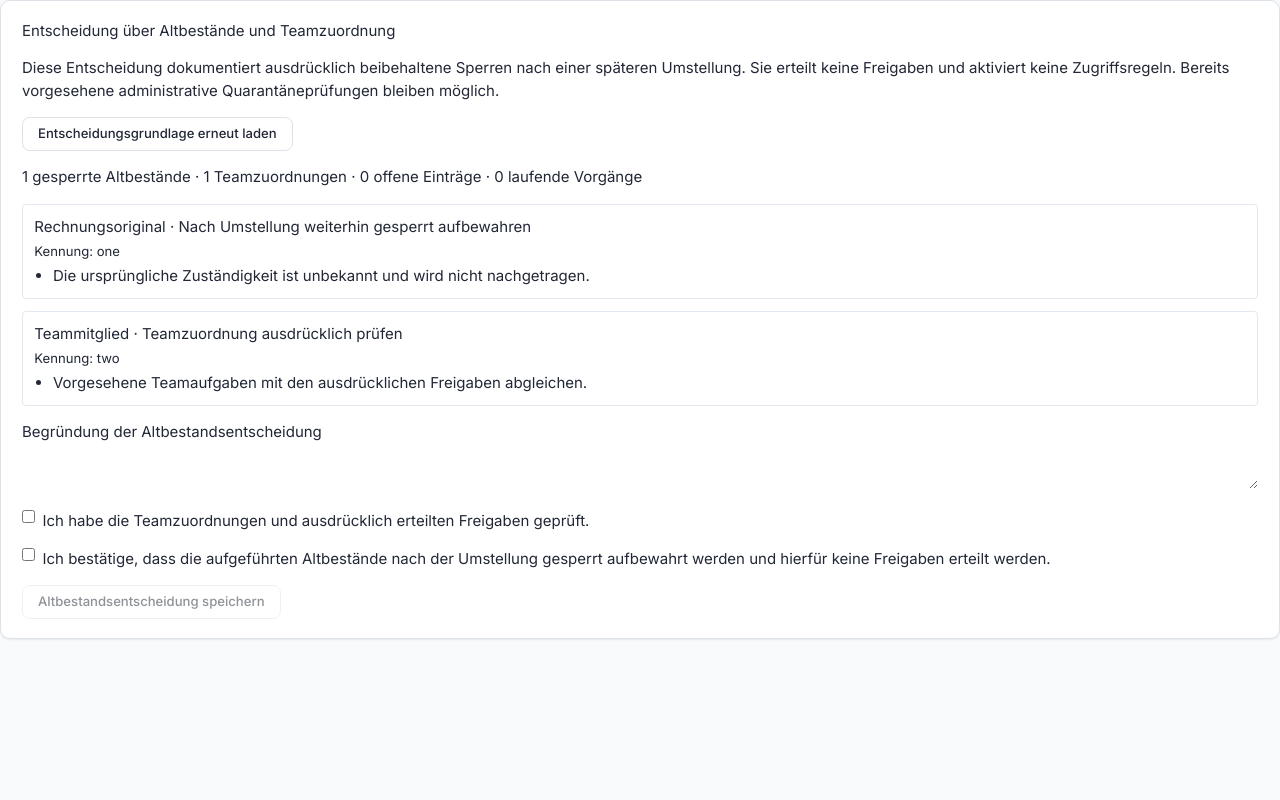
Test: retains the exact decision after response loss and returns its saved receipt
This screenshot has width=1280, height=800.
Expected: the heading "Rechnungsoriginal · Nach Umstellung" is shown, x1=34 y1=217 x2=531 y2=236
Type "Keep restricted legacy source" into the text box labelled "Begründung der Altbestandsentscheidung".
click(640, 466); type("Keep restricted legacy source")  # box x1=22 y1=444 x2=1258 y2=489
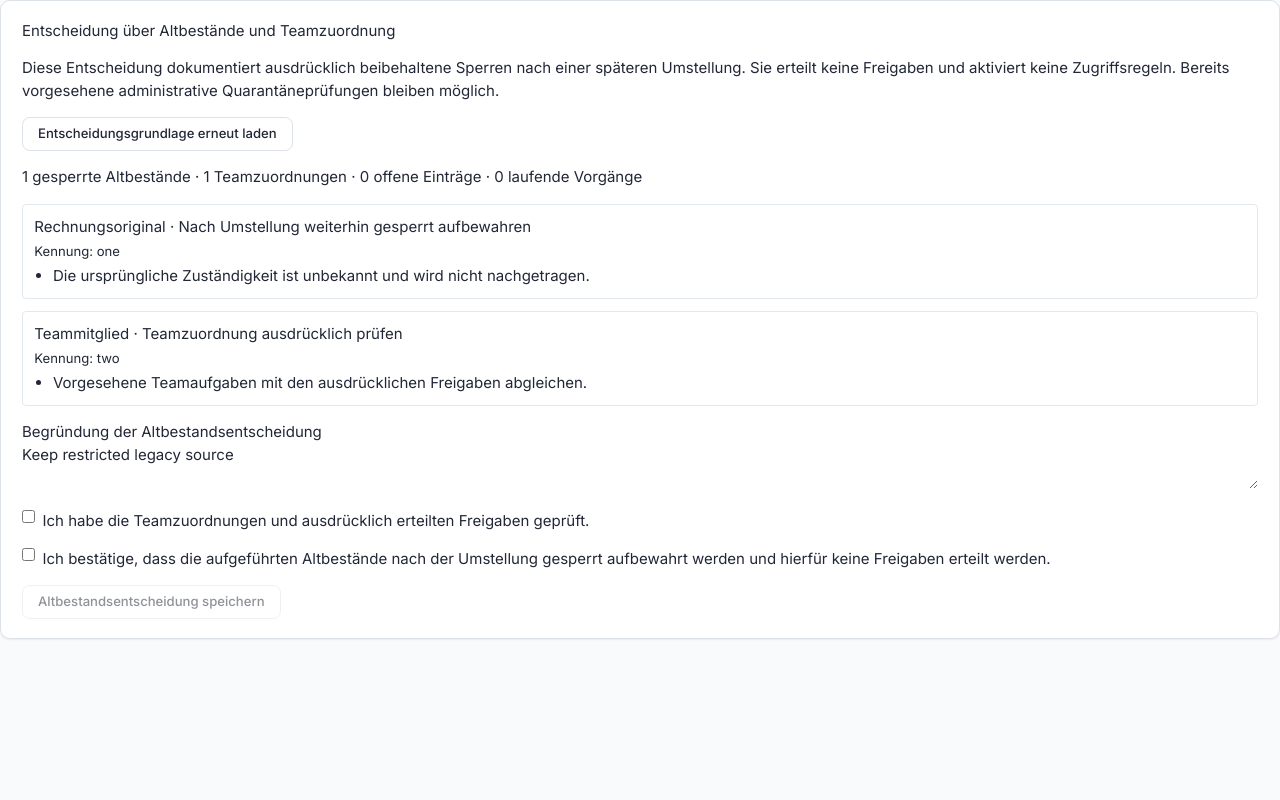
Click the 1st checkbox.
click(28, 517)  # box x1=22 y1=510 x2=35 y2=523
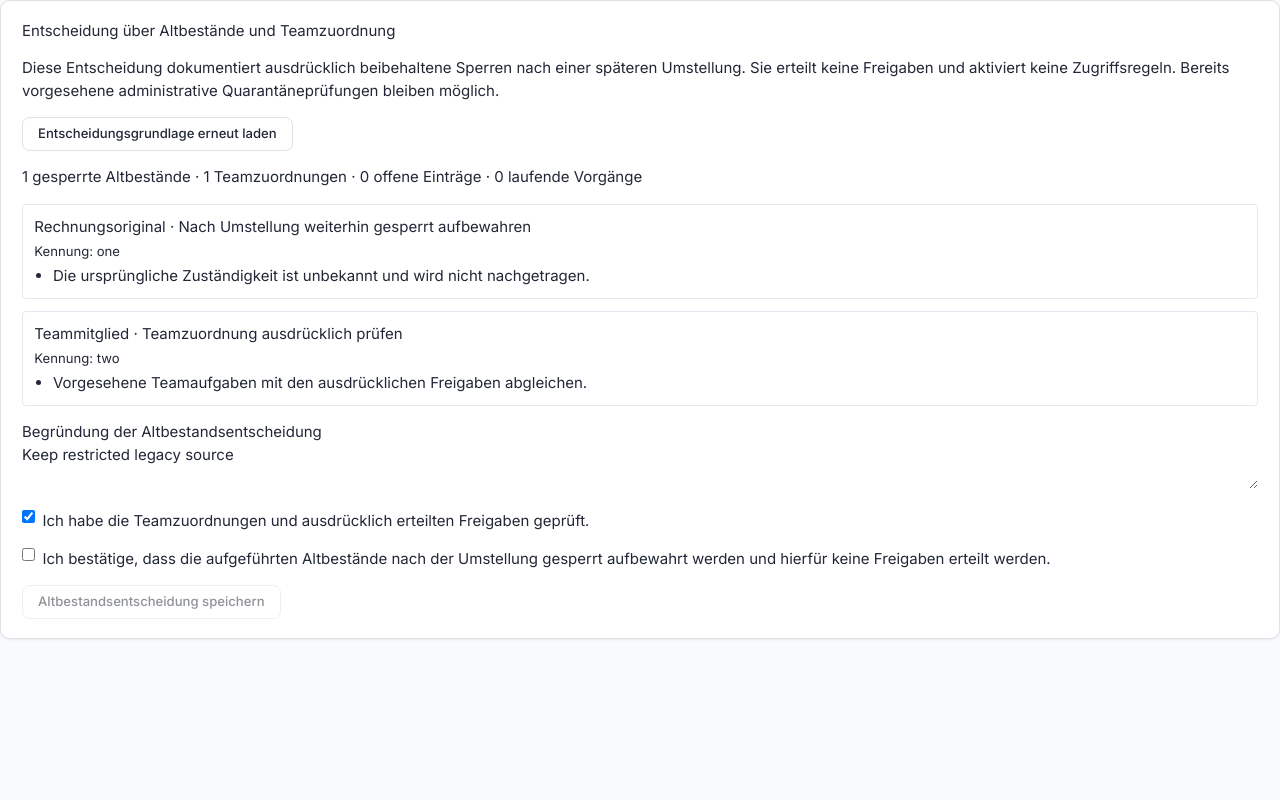
Click the 2nd checkbox.
click(28, 554)  # box x1=22 y1=548 x2=35 y2=561
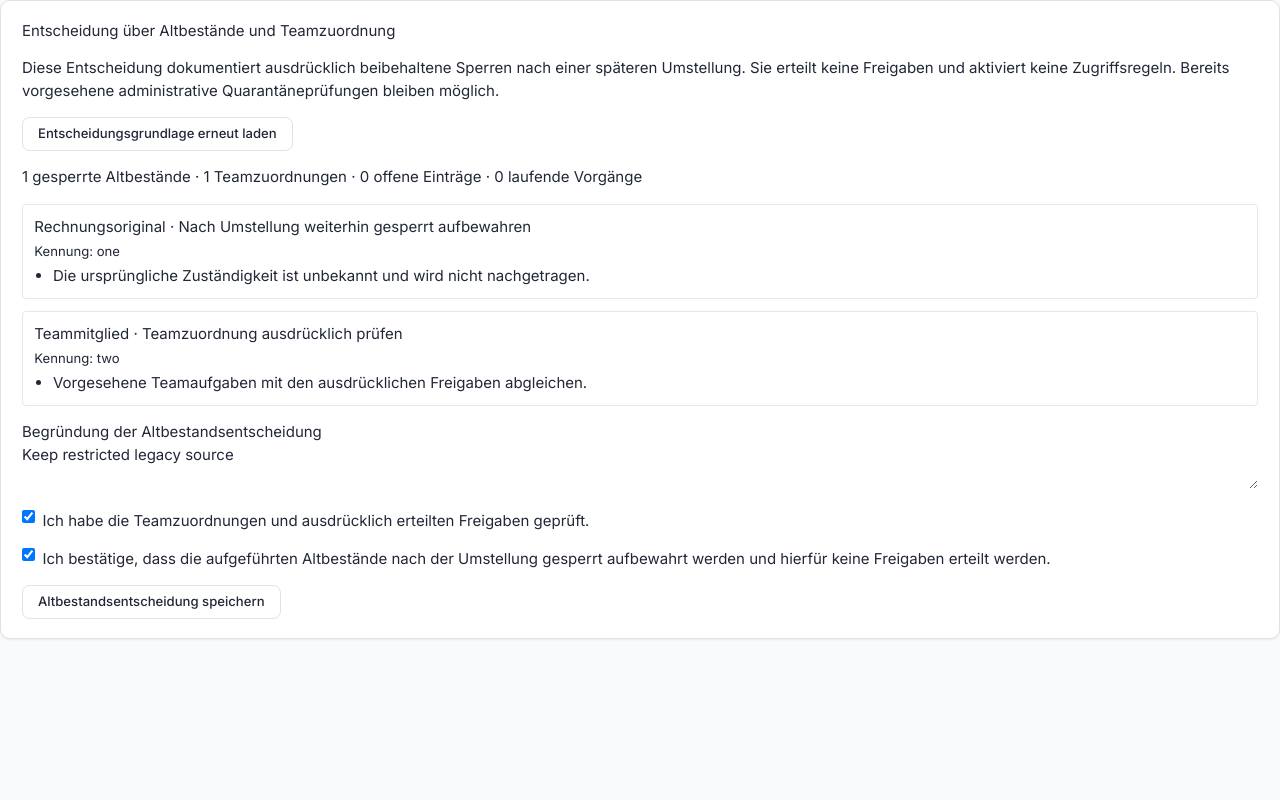
Click the button "Altbestandsentscheidung speichern".
click(151, 602)  # box x1=22 y1=585 x2=280 y2=619
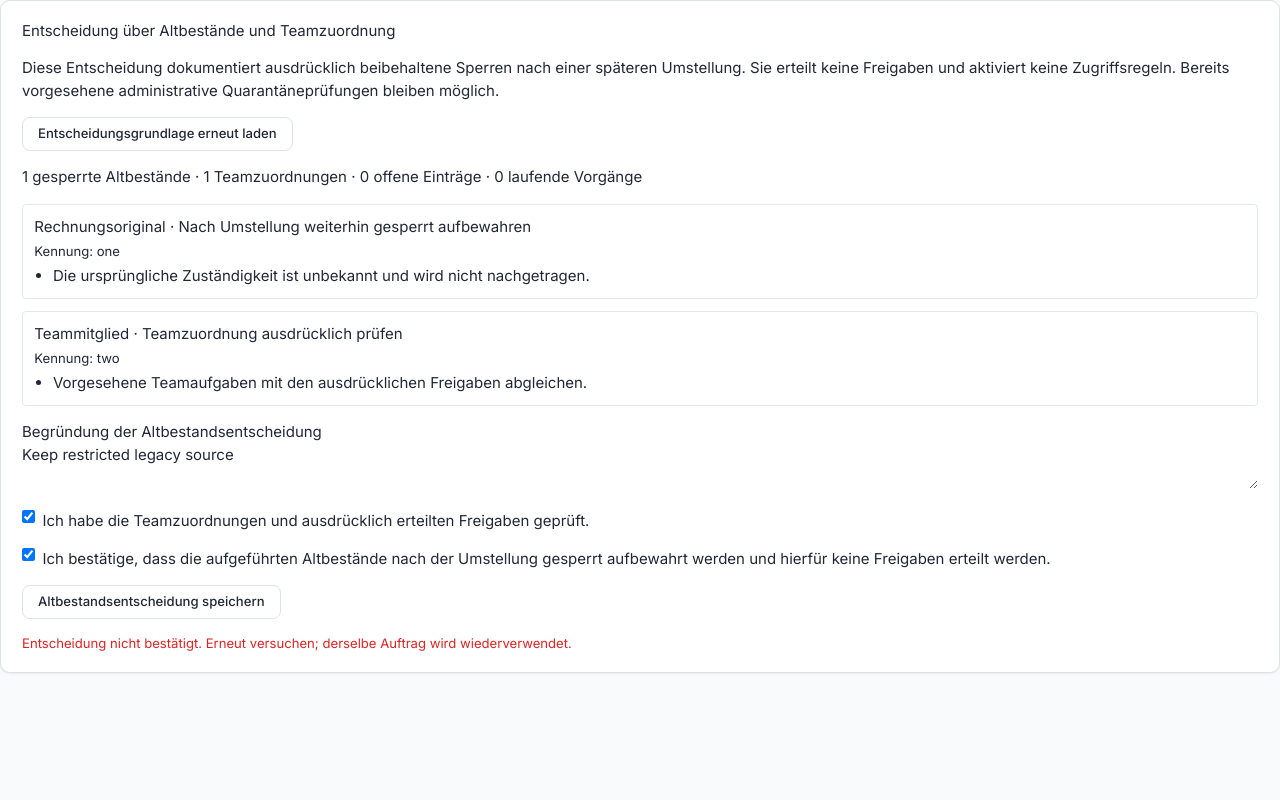
Expected: the text "Entscheidung nicht bestätigt" is shown, x1=22 y1=635 x2=572 y2=651
Click the button "Altbestandsentscheidung speichern".
click(151, 602)  # box x1=22 y1=585 x2=280 y2=619
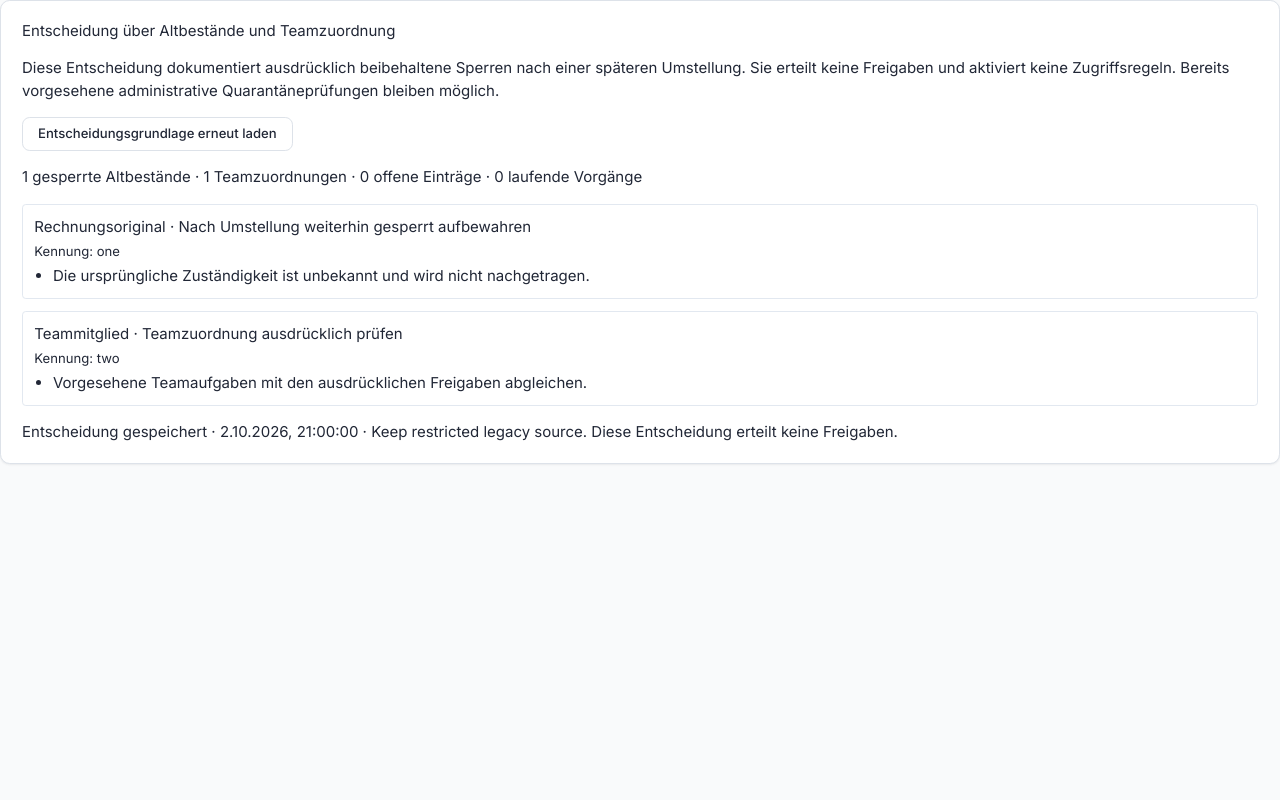
Expected: the text "Entscheidung gespeichert" is shown, x1=22 y1=422 x2=220 y2=441
